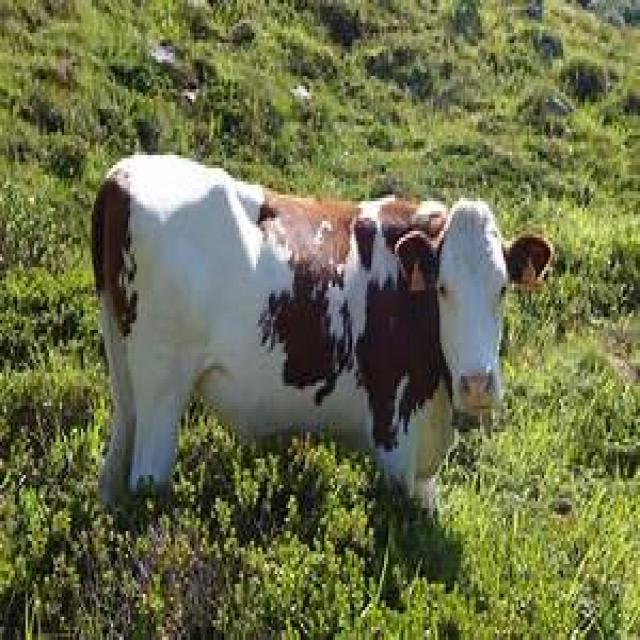cow: (90, 155, 557, 525)
